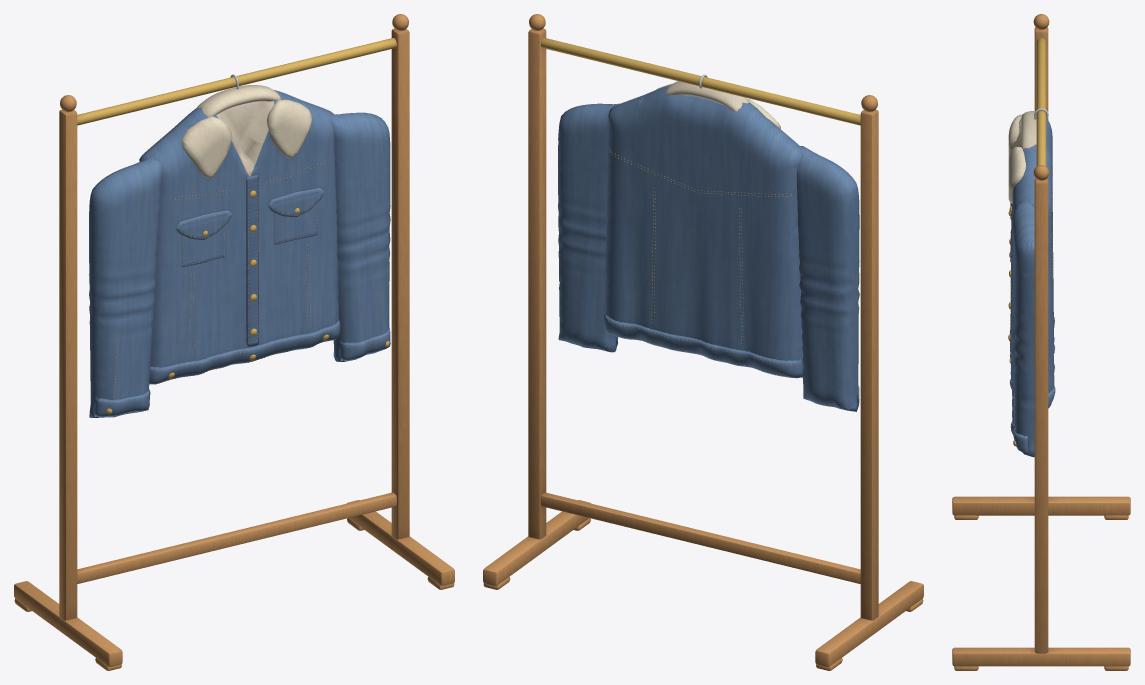
File: jacket.glb
3 renders of one model, left to right at view 1: azimuth 30°, elevation 25°; view 2: azimuth 150°, elevation 25°; view 3: azimuth 270°, elevation 25°, orthographic. The views are drawn at different scales.
Visible parts, largest first — view 1: jacket_body; view 2: jacket_body; view 3: jacket_body.
Boxes of the visible parts, <box> form: jacket_body: <box>14,14,454,670</box>; jacket_body: <box>483,14,923,670</box>; jacket_body: <box>952,14,1130,670</box>.
Size of the model in its own units: 0.9208 by 1.37 by 0.44.
Materials: 1 (1 with a texture image).
